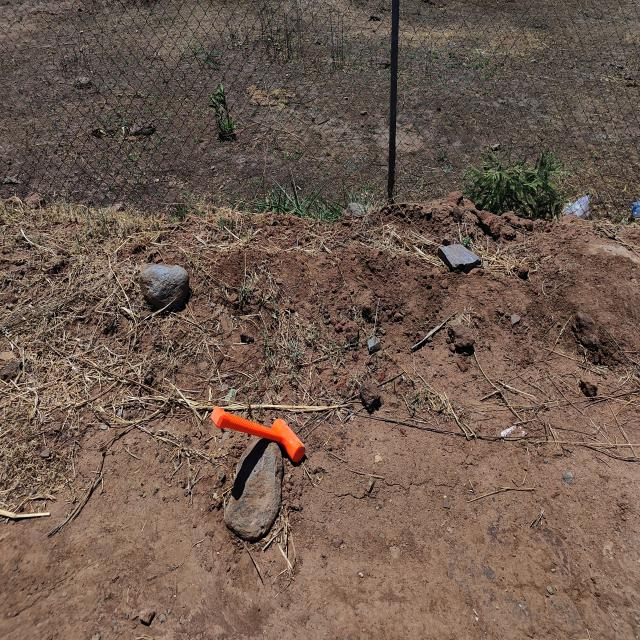Orange_hammer: (210, 405, 306, 465)
